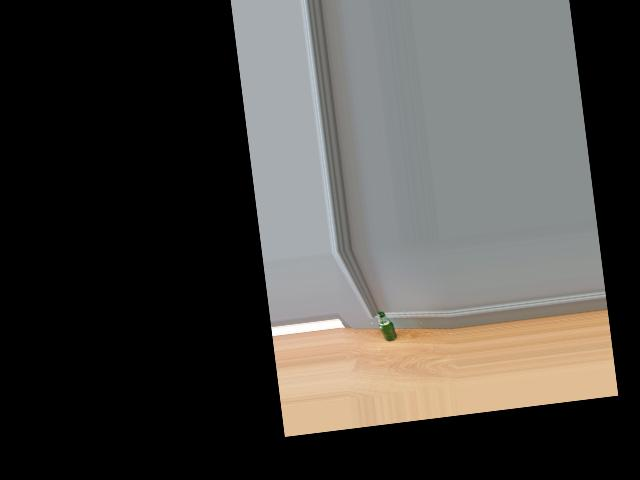beer: (377, 310, 396, 342)
